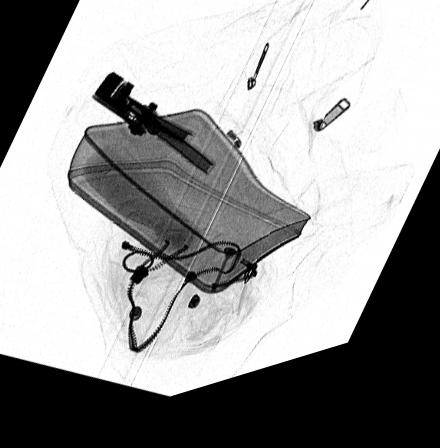Pliers: (89, 75, 216, 187)
